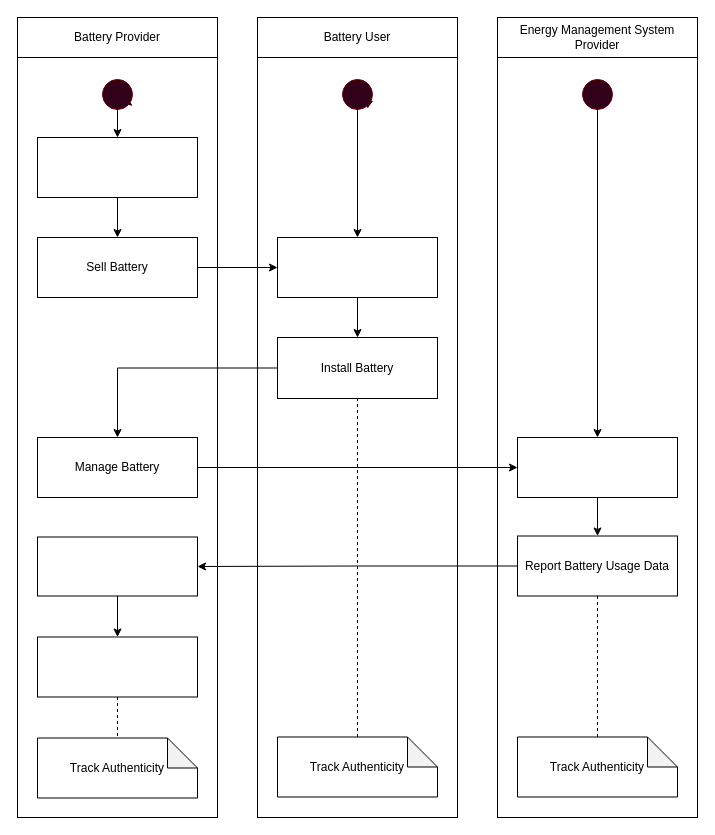
This 715x835 diagram has some shape labels left out. Each missing label, with the centre of its shape:
"Check Battery Usage Data for Warranty Violation" goes at [117,566].
"Produce Battery" goes at [117,167].
"Purchase Battery" goes at [357,267].
"Update Warranty Terms" goes at [117,666].
"Utilize Battery" goes at [597,467].
